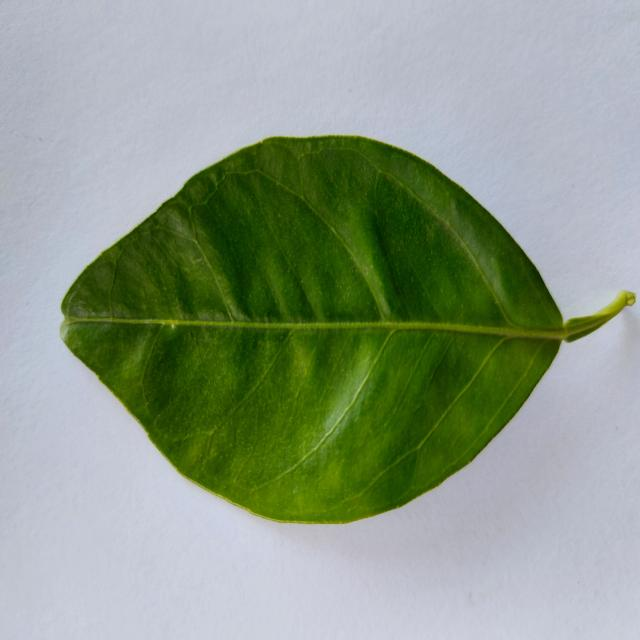greening: (61, 136, 634, 523)
